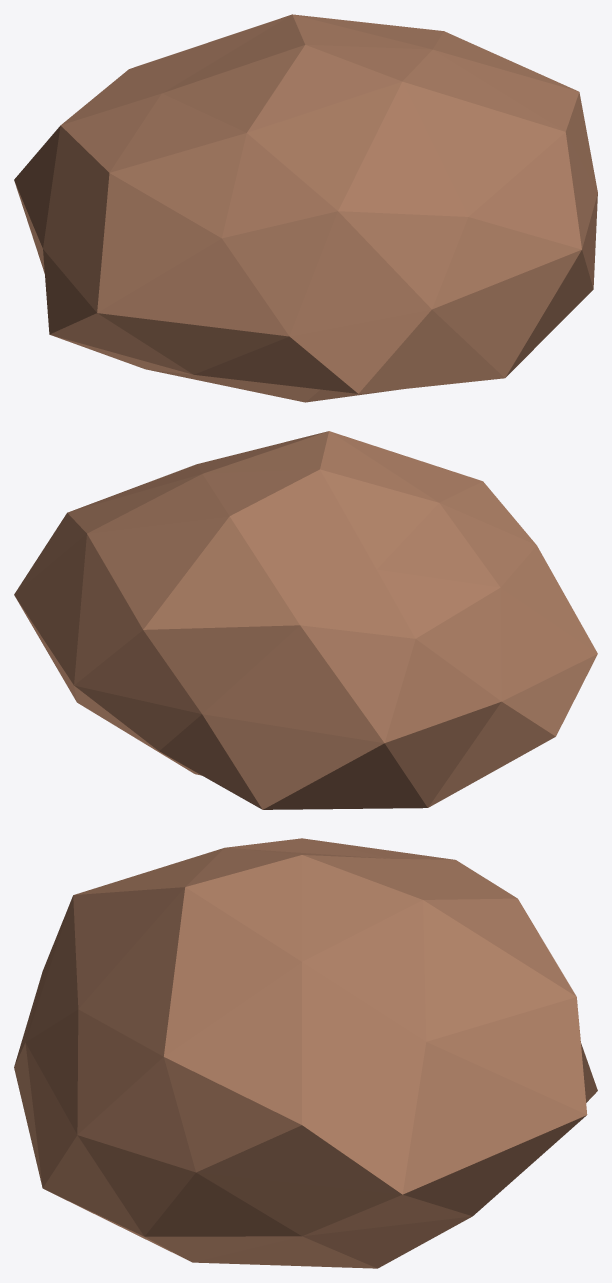
File: rock.glb
3 renders of one model, top to bottom at view 1: azimuth 30°, elevation 25°; view 2: azimuth 150°, elevation 25°; view 3: azimuth 270°, elevation 25°, orthographic. The views are drawn at different scales.
Parts seen in each view (by area): view 1: rock; view 2: rock; view 3: rock.
Boxes of the visible parts, left/top/right/bottom form: rock: left=14, top=14, right=597, bottom=402; rock: left=14, top=431, right=597, bottom=809; rock: left=14, top=838, right=597, bottom=1268.
Bounding box in the file's own units: 2.11 × 1.33 × 1.8.
